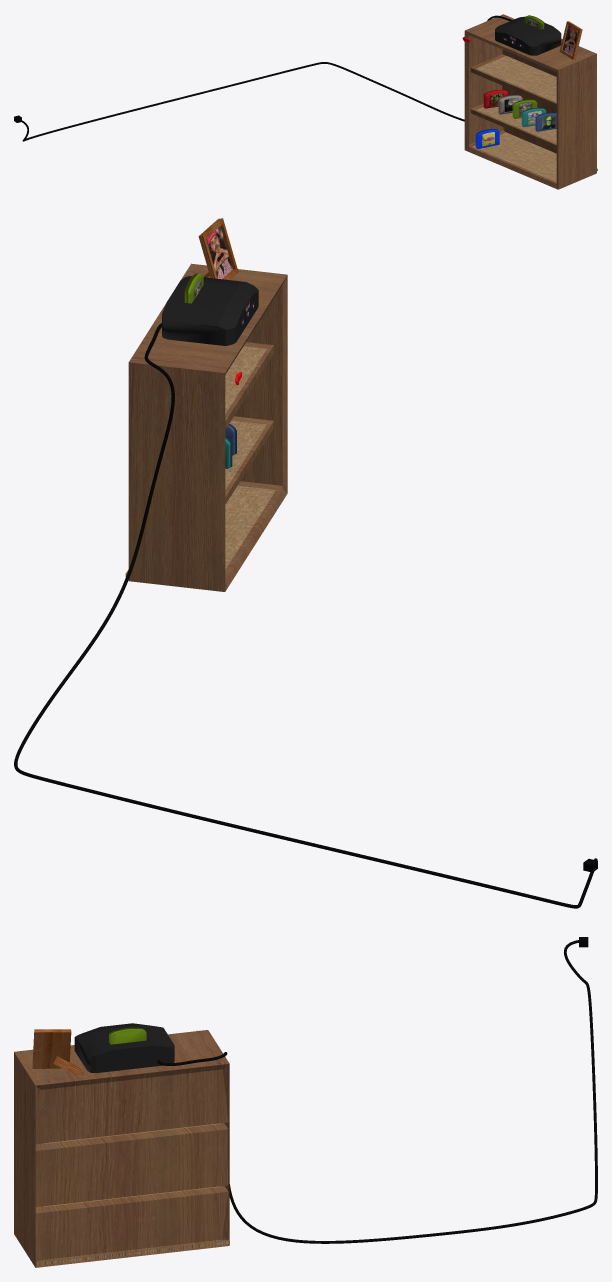
The model's file is MusicCabnet.gltf.
3 views of the same model, one above another, from view 1: azimuth 30°, elevation 25°; view 2: azimuth 150°, elevation 25°; view 3: azimuth 270°, elevation 25° (orthographic). The views are drawn at different scales.
Visible parts, largest first — view 1: Cabnet, Player, cottonMouth, wiiFit, helloCart, ntsCart, gtagCart, thiccLikeMew; view 2: Cabnet, Player; view 3: Cabnet, Player, cartIN.
Boxes of the visible parts, box(x1,y1,x2,y2) form: Cabnet: box(464, 14, 597, 189); Player: box(14, 15, 561, 141); cottonMouth: box(475, 129, 499, 148); wiiFit: box(535, 112, 556, 131); helloCart: box(483, 90, 508, 108); ntsCart: box(498, 95, 522, 114); gtagCart: box(512, 99, 537, 118); thiccLikeMew: box(521, 108, 546, 127); Cabnet: box(125, 218, 287, 591); Player: box(14, 276, 597, 908); Cabnet: box(14, 1029, 229, 1267); Player: box(74, 937, 597, 1243); cartIN: box(109, 1027, 146, 1044).
Size of the model in its own units: 1.89 by 0.6951 by 1.56.
Materials: 21 (11 with a texture image).
